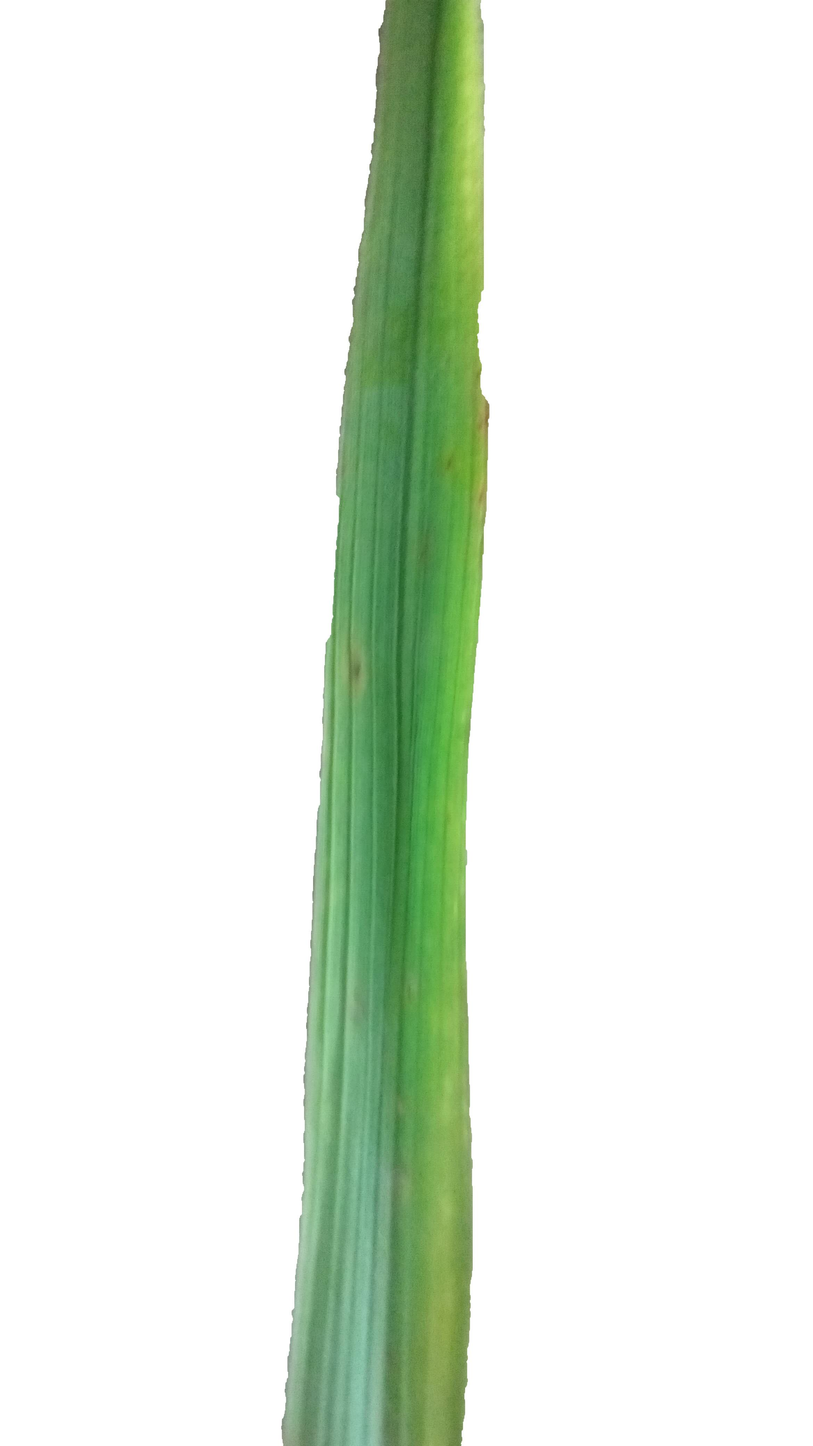Tungro: (375, 0, 479, 1446)
